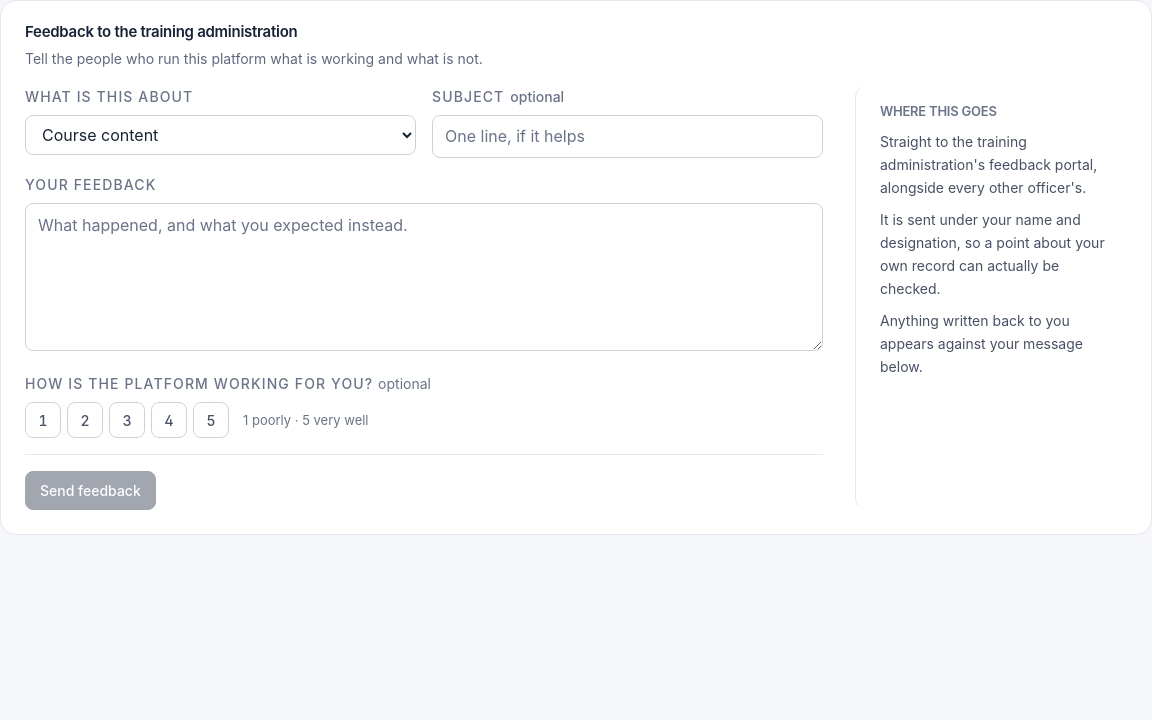
it: FeedbackPanel › will not send a message too short to act on
The image size is (1152, 720).
Expected: the button "Send feedback" is disabled, [25,471,156,510]
Type "broken" into the text box labelled "Your feedback" at (424, 277), box [25,203,823,351]
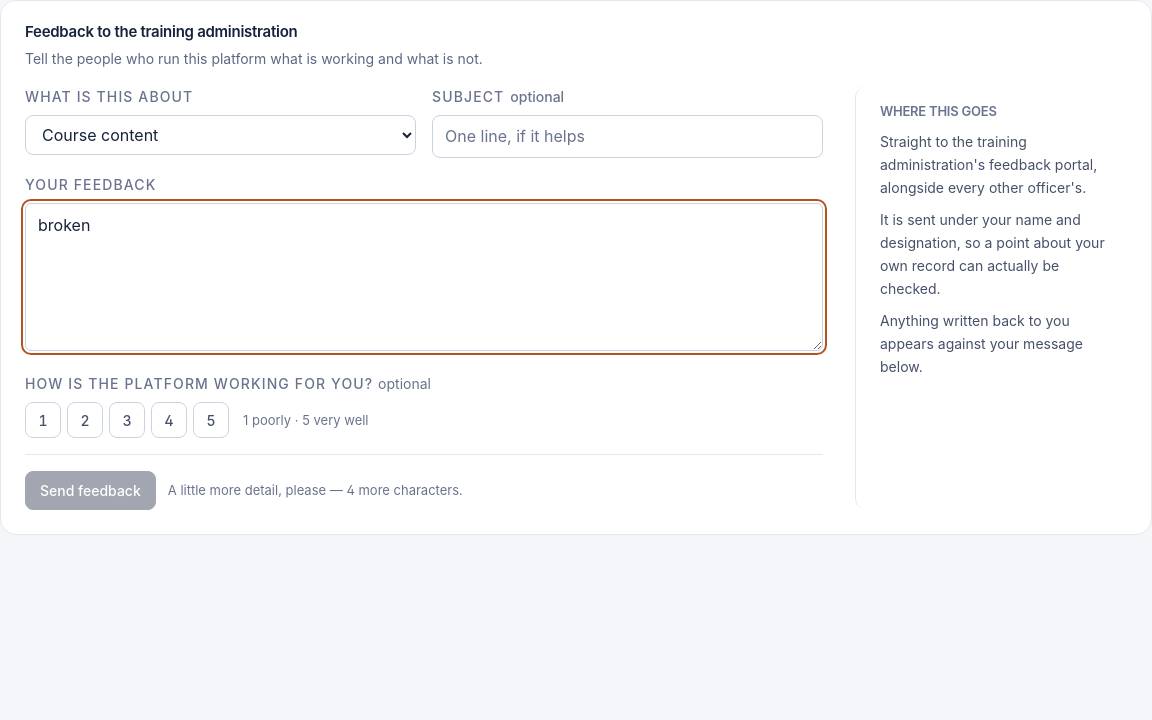
Expected: the button "Send feedback" is disabled, [25,471,156,510]
Expected: the text "A little more detail, please — 4 more characters." is shown, [168,481,463,500]
